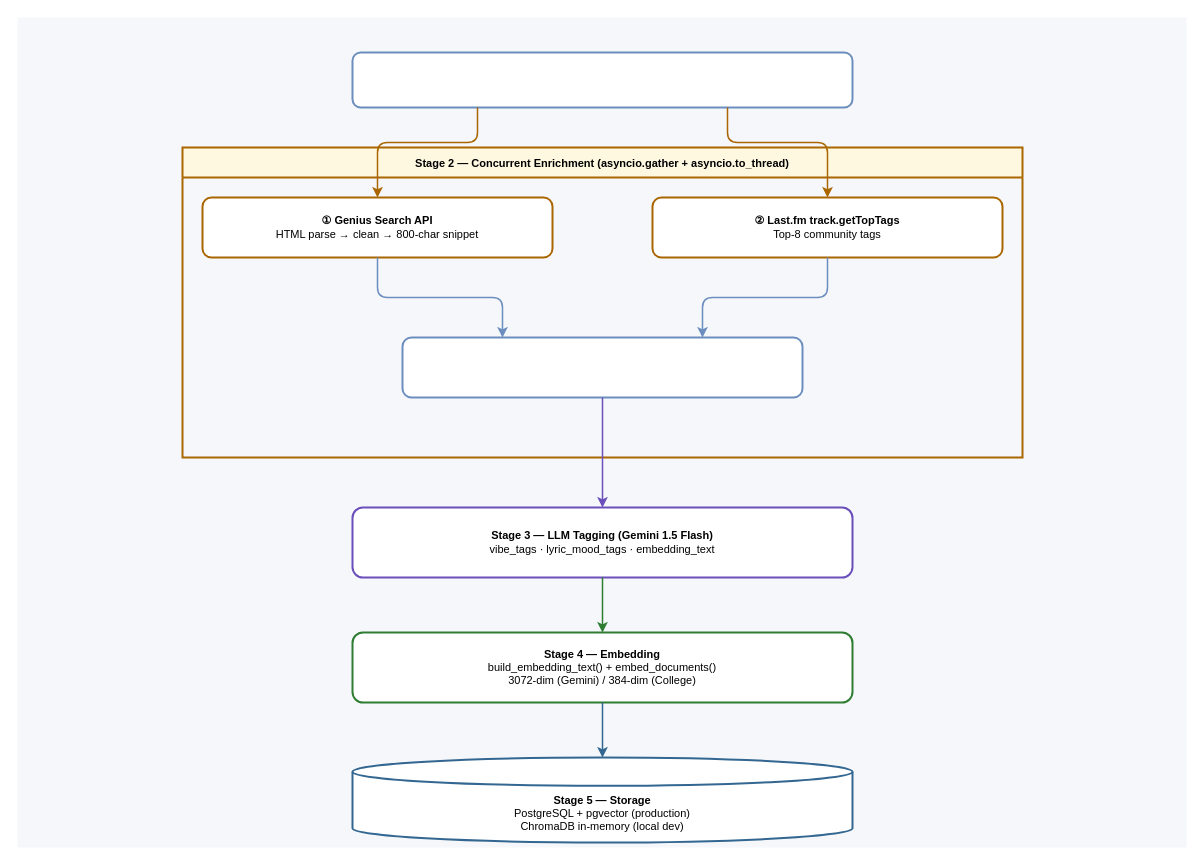
Image size: 1203x864. Some labels were removed from this diagram. The centre of each missing label's shape, as x and y in pixels:
"EnrichedSong (title, artist, lyrics_snippet, lastfm_tags)" goes at [602,367].
"Unembedded songs title · artist (from PostgreSQL via event_id)" goes at [602,79].
